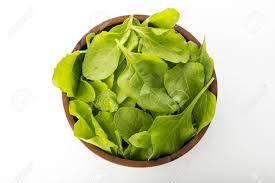spinach: (91, 39, 192, 136)
